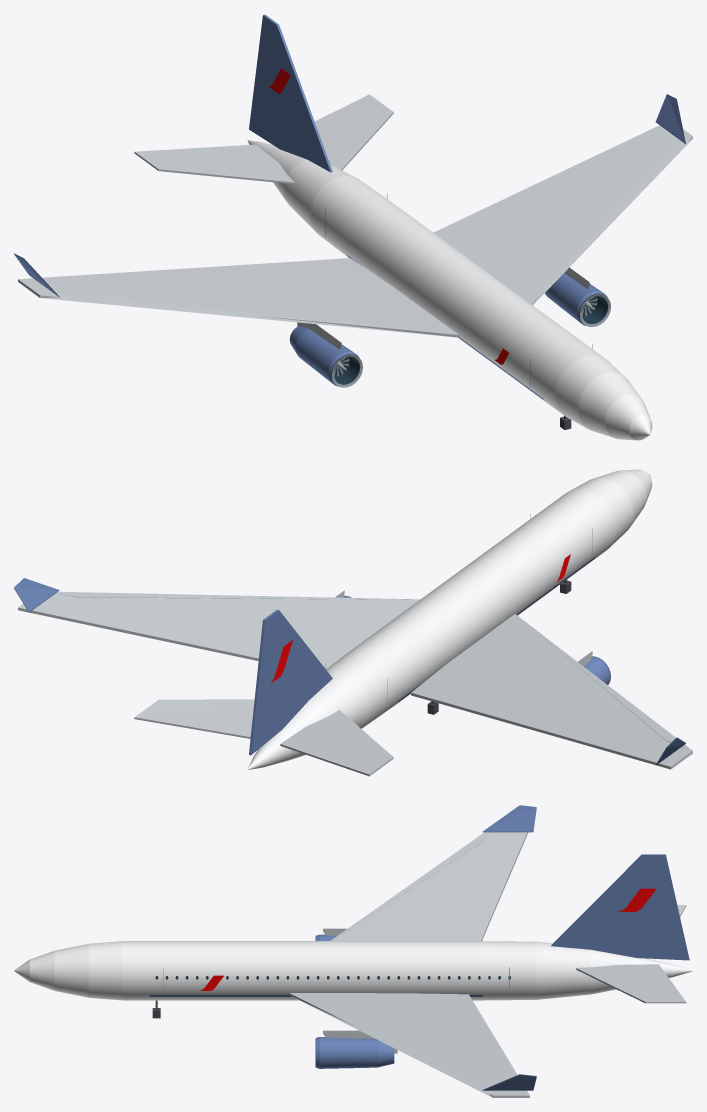
The model's file is a330-AFR-v3.gltf.
3 renders of one model, top to bottom at view 1: azimuth 30°, elevation 25°; view 2: azimuth 150°, elevation 25°; view 3: azimuth 270°, elevation 25°, orthographic. The views are drawn at different scales.
Parts seen in each view (by area): view 1: object 1; view 2: object 1; view 3: object 1.
Boxes of the visible parts, bbox=[...] form: object 1: bbox=[14, 14, 692, 440]; object 1: bbox=[14, 469, 692, 776]; object 1: bbox=[14, 805, 692, 1097].
Size of the model in its own units: 60 by 16.88 by 64.
Materials: 8 (1 with a texture image).
